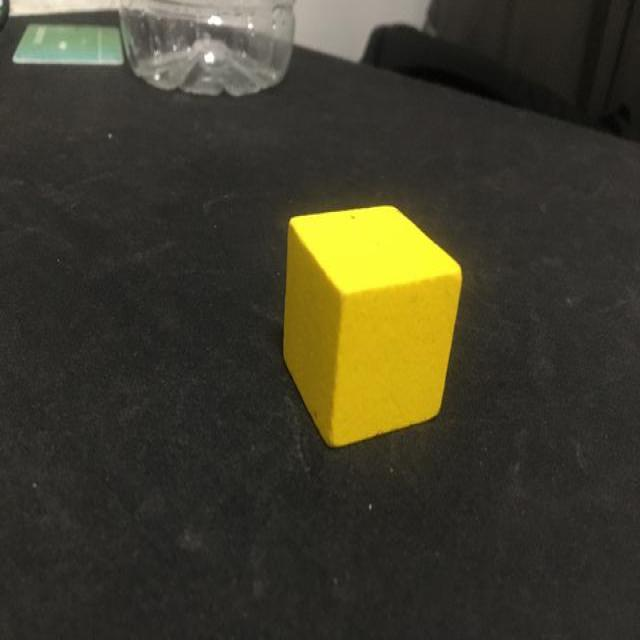yellow: (282, 206, 462, 446)
